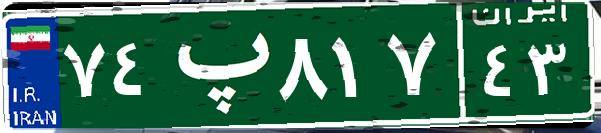1: (330, 28, 385, 110)
3: (525, 38, 570, 115)
4: (475, 38, 525, 113), (110, 28, 158, 105)
7: (385, 28, 445, 110), (57, 26, 110, 107)
8: (273, 28, 330, 110)
پ: (158, 15, 273, 115)
